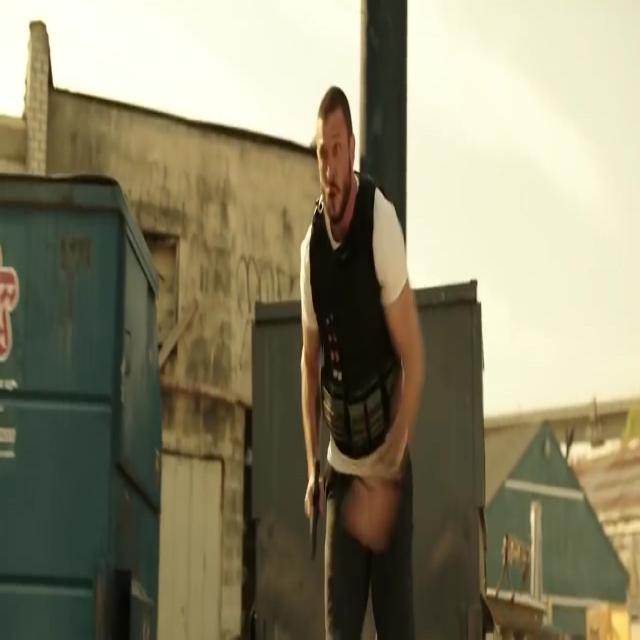Weapon: (301, 431, 344, 560)
